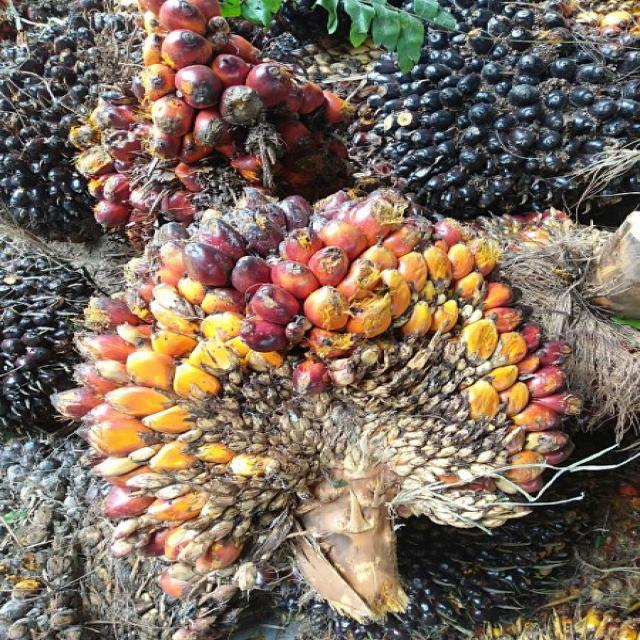fraksi 00: (341, 1, 640, 261)
fraksi 3: (1, 175, 637, 578)
